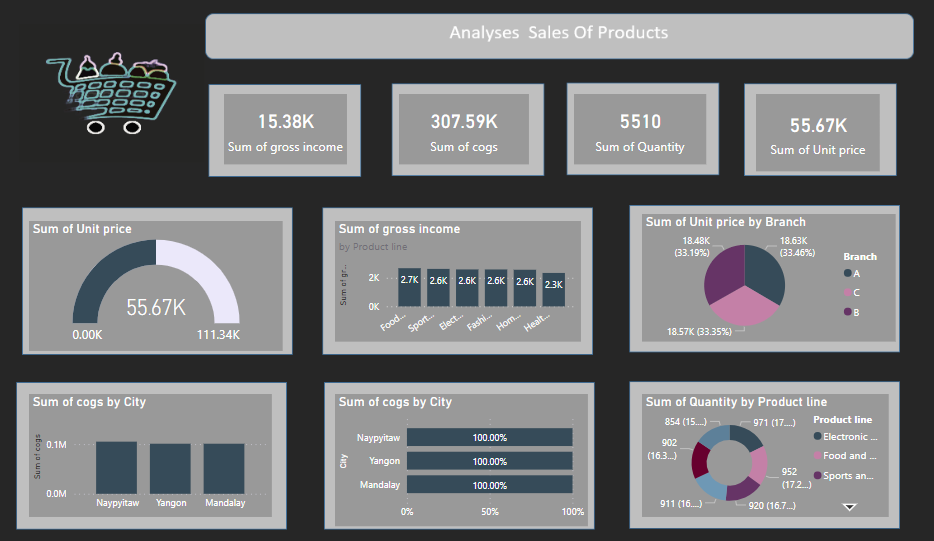

This screenshot's page, from the dashboard's own definition file:
{"tool":"powerbi","page":{"name":"Page 2","canvas":[1280,720],"ordinal":1},"visuals":[{"type":"image","box":[9,0,1271,720],"z":0},{"type":"donutChart","fields":{"Category":["supermarket_sales - Copy.Product line"],"Y":["Sum(supermarket_sales - Copy.Quantity)"]},"box":[857.2,521.1,319.4,159],"z":1000},{"type":"pieChart","fields":{"Category":["supermarket_sales - Copy.Branch"],"Y":["Sum(supermarket_sales - Copy.Unit price)"]},"box":[857.2,288.3,328.4,165.5],"z":2000},{"type":"columnChart","fields":{"Category":["supermarket_sales - Copy.Product line"],"Y":["Sum(supermarket_sales - Copy.gross income)"]},"box":[460.3,297.4,318.1,156.4],"z":3000},{"type":"hundredPercentStackedBarChart","fields":{"Category":["supermarket_sales - Copy.City"],"Y":["Sum(supermarket_sales - Copy.cogs)"]},"box":[460.3,521.1,327.1,170.7],"z":4000},{"type":"card","fields":{"Values":["Sum(supermarket_sales - Copy.gross income)"]},"box":[316.8,133.2,159,90.5],"z":5000},{"type":"card","fields":{"Values":["Sum(supermarket_sales - Copy.cogs)"]},"box":[543,133.2,168.1,90.5],"z":6000},{"type":"card","fields":{"Values":["Sum(supermarket_sales - Copy.Quantity)"]},"box":[769.3,133.2,170.7,90.5],"z":7000},{"type":"card","fields":{"Values":["Sum(supermarket_sales - Copy.Unit price)"]},"box":[1004.6,133.2,160.3,99.6],"z":8000},{"type":"lineClusteredColumnComboChart","fields":{"Category":["countbrachincity.City"],"Y":["Sum(supermarket_sales - Copy.cogs)"]},"box":[64.6,521.1,314.2,159],"z":9000},{"type":"gauge","fields":{"Y":["Sum(supermarket_sales - Copy.Unit price)"]},"box":[64.6,297.4,328.4,168.1],"z":10000}]}

Visuals, with their boxes in screenshot pixels (x1, y1, x2, y2), scaled from the page's 1280x720 canvas onto the 934x541 screenshot:
image: select_region(7, 0, 933, 540)
donutChart - supermarket_sales - Copy.Product line x Sum(supermarket_sales - Copy.Quantity): select_region(625, 392, 859, 511)
pieChart - supermarket_sales - Copy.Branch x Sum(supermarket_sales - Copy.Unit price): select_region(625, 217, 865, 341)
columnChart - supermarket_sales - Copy.Product line x Sum(supermarket_sales - Copy.gross income): select_region(336, 223, 568, 341)
hundredPercentStackedBarChart - supermarket_sales - Copy.City x Sum(supermarket_sales - Copy.cogs): select_region(336, 392, 575, 520)
card - Sum(supermarket_sales - Copy.gross income): select_region(231, 100, 347, 168)
card - Sum(supermarket_sales - Copy.cogs): select_region(396, 100, 519, 168)
card - Sum(supermarket_sales - Copy.Quantity): select_region(561, 100, 686, 168)
card - Sum(supermarket_sales - Copy.Unit price): select_region(733, 100, 850, 175)
lineClusteredColumnComboChart - countbrachincity.City x Sum(supermarket_sales - Copy.cogs): select_region(47, 392, 276, 511)
gauge - Sum(supermarket_sales - Copy.Unit price): select_region(47, 223, 287, 350)
